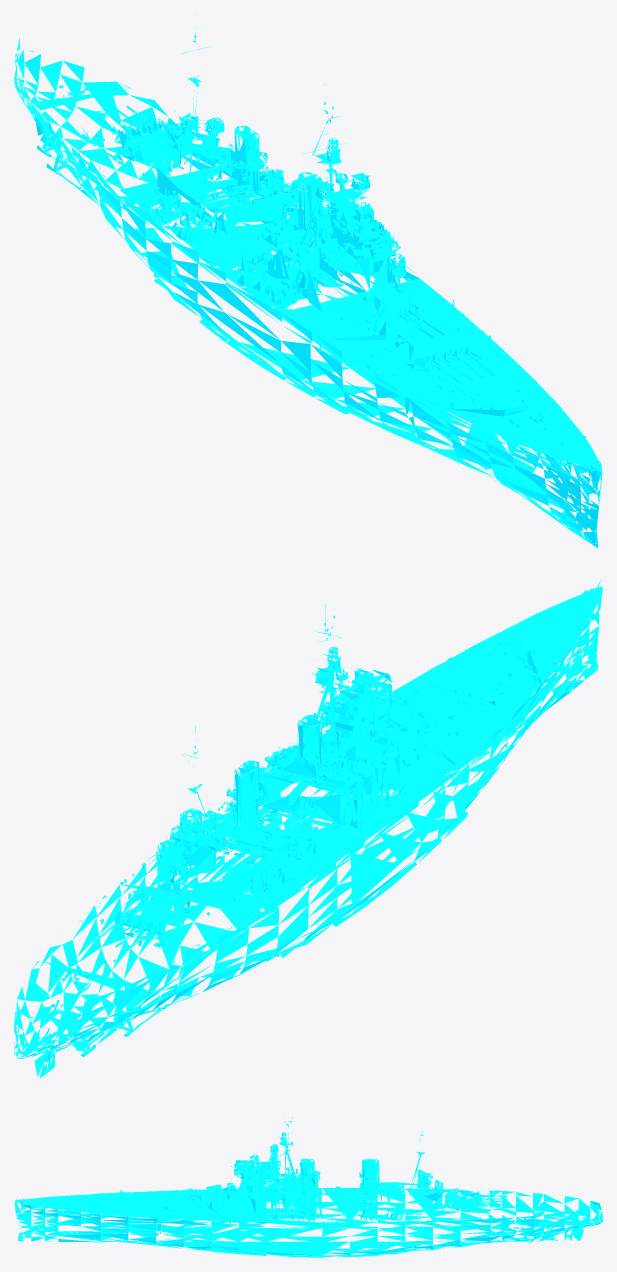
Rendered from PBSB107.glb.
3 views of the same model, one above another, from view 1: azimuth 30°, elevation 25°; view 2: azimuth 150°, elevation 25°; view 3: azimuth 270°, elevation 25° (orthographic). The views are drawn at different scales.
Parts seen in each view (by area): view 1: hull_mid, hull_bow, hull_stern, main_battery, secondary_battery, hull_body; view 2: hull_mid, hull_bow, hull_stern, main_battery, secondary_battery, hull_body, aa_mount; view 3: hull_mid, hull_bow, hull_stern, main_battery, secondary_battery, hull_body.
Part boxes in pixels (x1,y1,x2,y2): hull_mid: (60, 40, 515, 447); hull_bow: (405, 362, 602, 547); hull_stern: (14, 38, 167, 196); main_battery: (94, 105, 494, 383); secondary_battery: (156, 163, 414, 304); hull_body: (168, 117, 398, 287); hull_mid: (61, 615, 515, 1025); hull_bow: (406, 579, 602, 771); hull_stern: (14, 944, 168, 1078); main_battery: (93, 672, 494, 950); secondary_battery: (147, 759, 405, 890); hull_body: (168, 668, 398, 875); aa_mount: (276, 704, 396, 832); hull_mid: (152, 1116, 517, 1257); hull_bow: (14, 1190, 155, 1245); hull_stern: (501, 1191, 602, 1242); main_battery: (139, 1183, 507, 1209); secondary_battery: (267, 1177, 403, 1220); hull_body: (250, 1144, 443, 1196).
Size of the model in its own units: 2.18 by 3.81 by 15.12.
